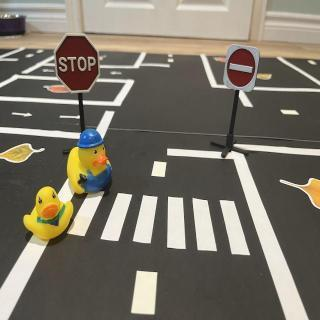duck_regular: (21, 186, 74, 242)
duck_specialty: (66, 128, 116, 196)
road_crosswalk: (62, 181, 256, 259)
road_oneway: (58, 111, 84, 125), (10, 109, 35, 121), (107, 70, 127, 78), (44, 68, 57, 76)
sign_noentry: (222, 43, 264, 97)
sign_stop: (55, 33, 102, 95)
